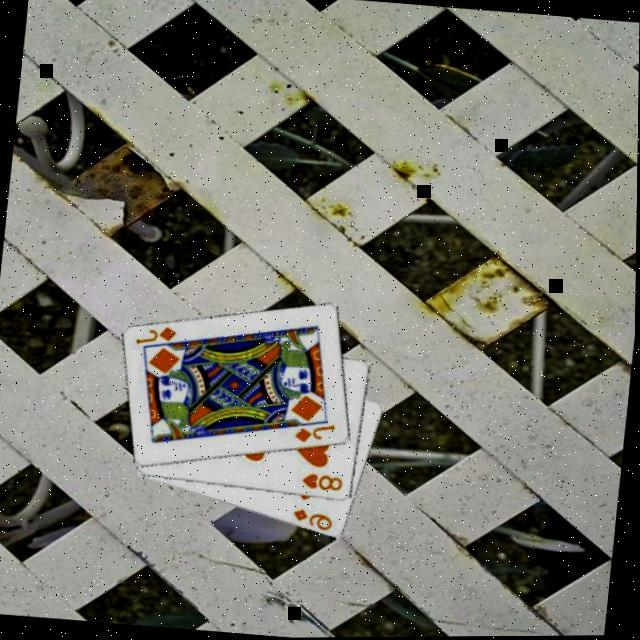8H: (298, 468, 346, 494)
9D: (288, 503, 336, 532)
JD: (290, 417, 338, 447), (132, 319, 178, 349)
